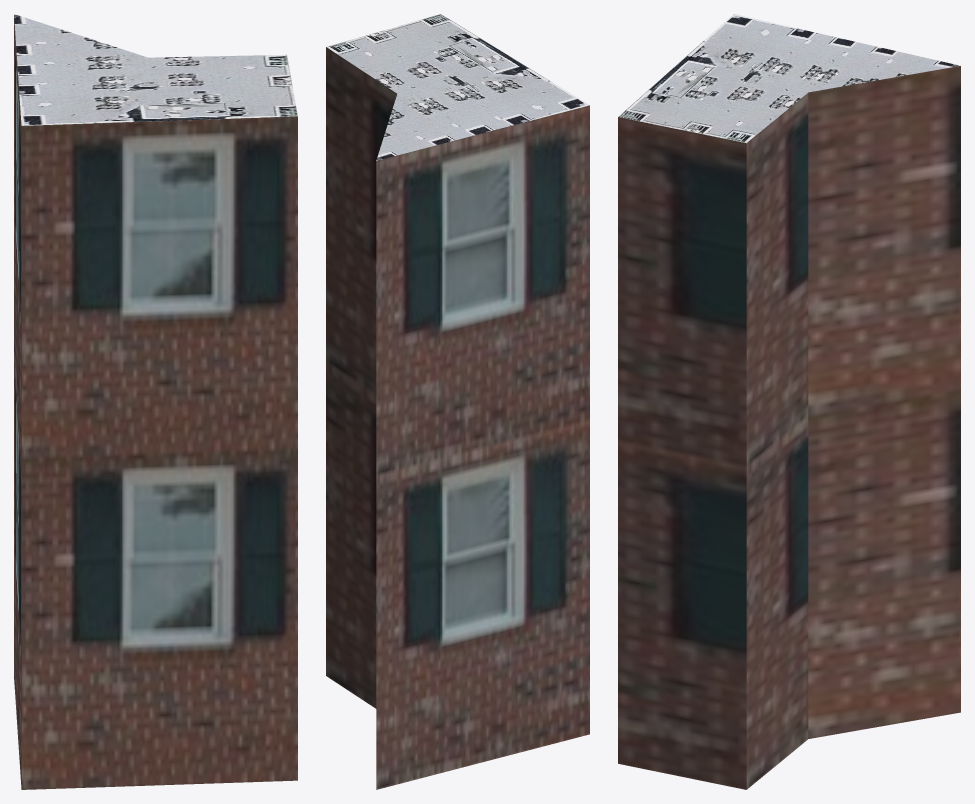
The model's file is ResTex__3100.fbx.
The picture shows the model from 3 angles, left to right: view 1: azimuth 30°, elevation 25°; view 2: azimuth 150°, elevation 25°; view 3: azimuth 270°, elevation 25°; orthographic projection. The views are drawn at different scales.
Parts seen in each view (by area): view 1: CityEngineMaterial_14_m, CityEngineMaterial_8_m; view 2: CityEngineMaterial_14_m, CityEngineMaterial_8_m; view 3: CityEngineMaterial_14_m, CityEngineMaterial_8_m.
Part boxes in pixels (x1=…): CityEngineMaterial_14_m: x1=14, y1=16, x2=297, y2=789; CityEngineMaterial_8_m: x1=14, y1=14, x2=297, y2=125; CityEngineMaterial_14_m: x1=326, y1=47, x2=589, y2=789; CityEngineMaterial_8_m: x1=326, y1=14, x2=589, y2=160; CityEngineMaterial_14_m: x1=618, y1=66, x2=960, y2=789; CityEngineMaterial_8_m: x1=618, y1=14, x2=960, y2=143.
Size of the model in its own units: 2.57 by 6 by 2.88.
2 materials, 2 textured.
